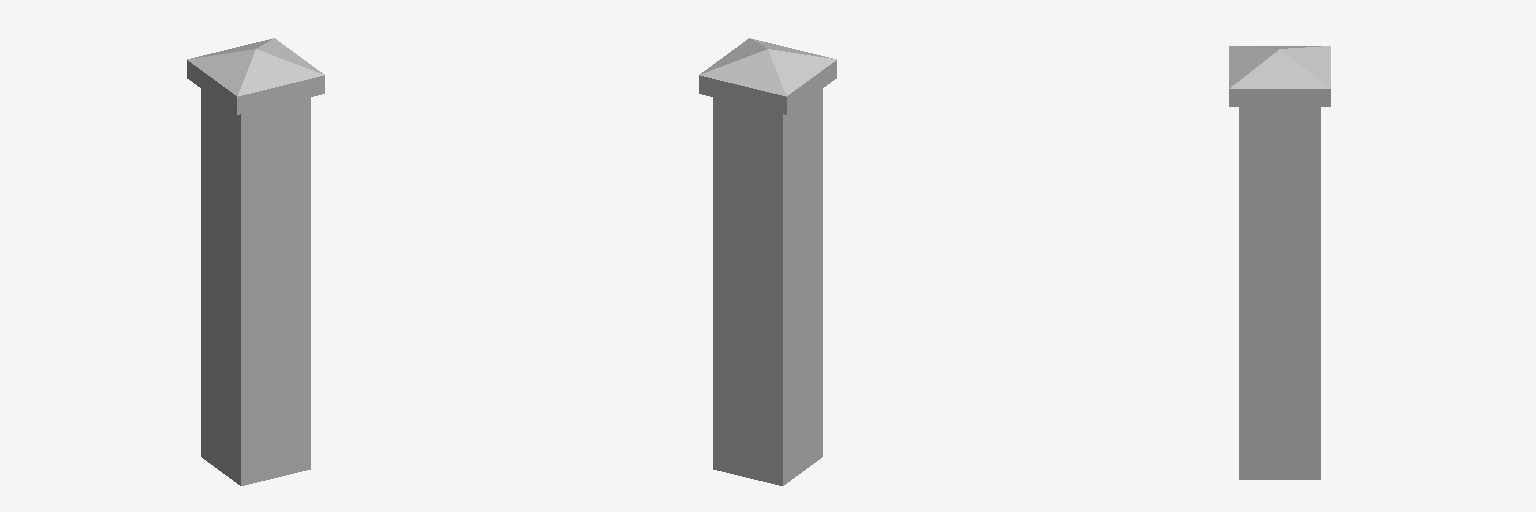
File: Fence_Red_Wall_Pole.obj
The picture shows the model from 3 angles: view 1: azimuth 30°, elevation 25°; view 2: azimuth 150°, elevation 25°; view 3: azimuth 270°, elevation 25°; orthographic projection.
Visible parts, largest first — view 1: Fence_Red_Wall_Pole_Cube.018; view 2: Fence_Red_Wall_Pole_Cube.018; view 3: Fence_Red_Wall_Pole_Cube.018.
Part boxes in pixels (bbox=[...]): Fence_Red_Wall_Pole_Cube.018: bbox=[187, 38, 324, 485]; Fence_Red_Wall_Pole_Cube.018: bbox=[699, 38, 836, 485]; Fence_Red_Wall_Pole_Cube.018: bbox=[1229, 46, 1330, 479].
Bounding box in the file's own units: 0.625 × 2.81 × 0.625.